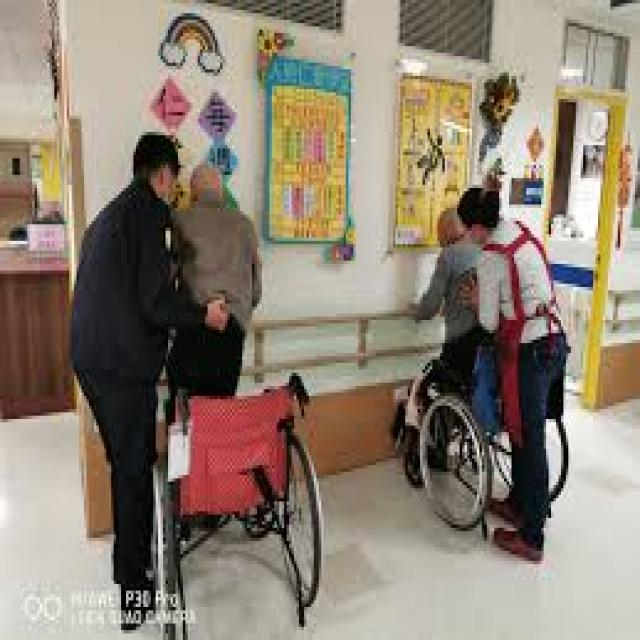wheelchairs: (143, 320, 336, 637), (395, 297, 571, 538)
